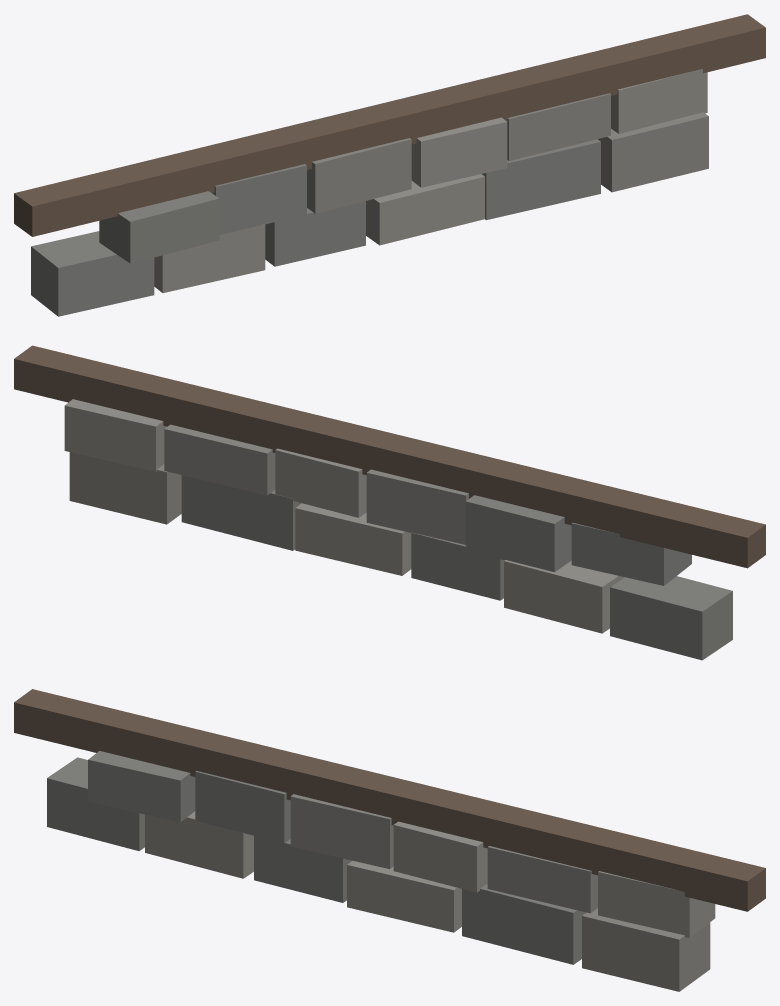
The model's file is stone_foundation_detail.glb.
3 views of the same model, one above another, from view 1: azimuth 30°, elevation 25°; view 2: azimuth 150°, elevation 25°; view 3: azimuth 330°, elevation 25° (orthographic).
Parts seen in each view (by area): view 1: world; view 2: world; view 3: world.
Part boxes in pixels (<box>): world: <box>14,14,765,316</box>; world: <box>14,345,765,660</box>; world: <box>14,689,765,991</box>.
Bounding box in the file's own units: 5.55 × 0.879 × 0.5829.
